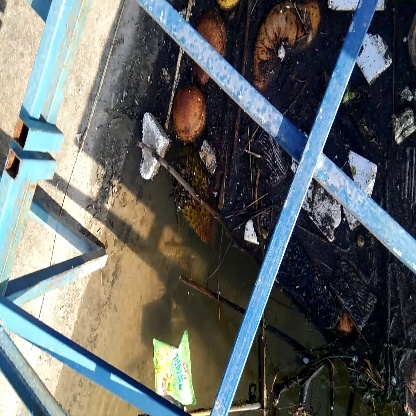branch: (134, 137, 241, 253)
